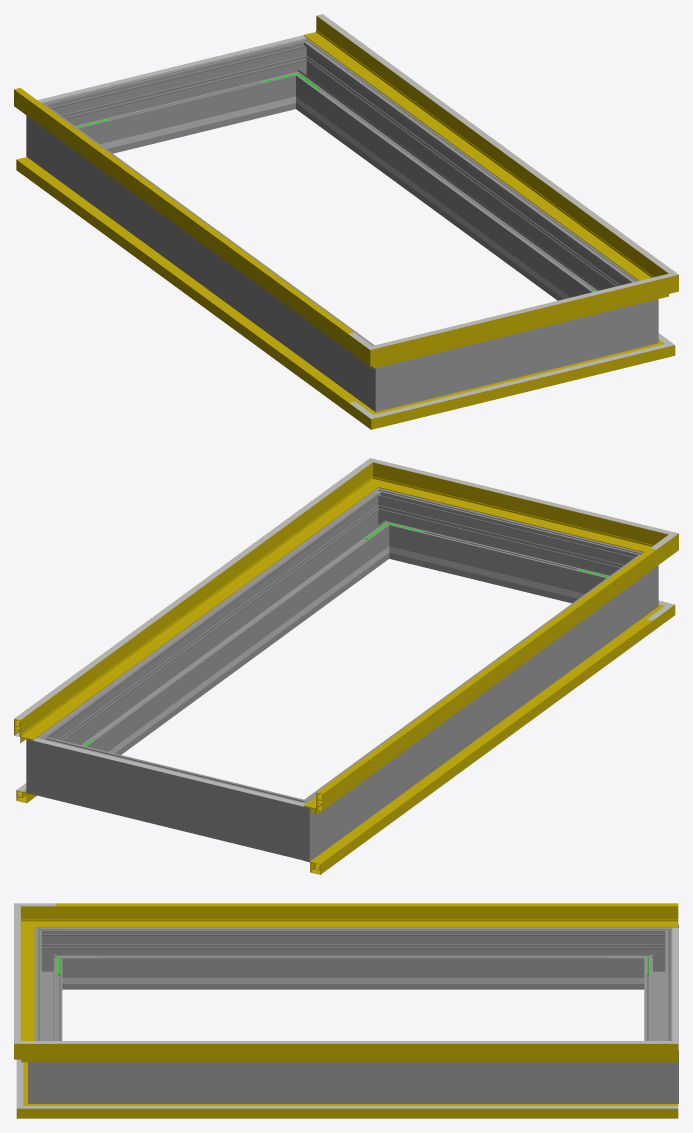
The picture shows the model from 3 angles, top to bottom: view 1: azimuth 30°, elevation 25°; view 2: azimuth 150°, elevation 25°; view 3: azimuth 270°, elevation 25°; orthographic projection. The views are drawn at different scales.
Visible parts, largest first — view 1: 3DGeom-298, 3DGeom-269, 3DGeom-277, 3DGeom-58, 3DGeom-299, 3DGeom-50, 3DGeom-6, 3DGeom-56, 3DGeom-11, 3DGeom-271, 3DGeom-71, 3DGeom-64 (+12 smaller); view 2: 3DGeom-298, 3DGeom-269, 3DGeom-299, 3DGeom-277, 3DGeom-58, 3DGeom-50, 3DGeom-56, 3DGeom-6, 3DGeom-279, 3DGeom-285, 3DGeom-64, 3DGeom-71 (+9 smaller); view 3: 3DGeom-269, 3DGeom-298, 3DGeom-50, 3DGeom-58, 3DGeom-16, 3DGeom-233, 3DGeom-71, 3DGeom-299, 3DGeom-277, 3DGeom-64, 3DGeom-18, 3DGeom-285 (+9 smaller).
Part boxes in pixels (bbox=[...]): 3DGeom-298: bbox=[299, 51, 629, 300]; 3DGeom-269: bbox=[48, 116, 365, 395]; 3DGeom-277: bbox=[68, 46, 289, 153]; 3DGeom-58: bbox=[303, 16, 653, 279]; 3DGeom-299: bbox=[414, 308, 619, 402]; 3DGeom-50: bbox=[14, 89, 349, 350]; 3DGeom-6: bbox=[16, 157, 358, 413]; 3DGeom-56: bbox=[405, 284, 640, 360]; 3DGeom-11: bbox=[404, 350, 636, 420]; 3DGeom-271: bbox=[353, 339, 414, 412]; 3DGeom-71: bbox=[14, 88, 353, 333]; 3DGeom-64: bbox=[317, 14, 655, 259]; 3DGeom-298: bbox=[55, 501, 385, 754]; 3DGeom-269: bbox=[319, 566, 636, 845]; 3DGeom-299: bbox=[395, 495, 616, 603]; 3DGeom-277: bbox=[65, 743, 277, 852]; 3DGeom-58: bbox=[14, 475, 367, 743]; 3DGeom-50: bbox=[303, 548, 656, 815]; 3DGeom-56: bbox=[397, 470, 636, 548]; 3DGeom-6: bbox=[304, 618, 652, 874]; 3DGeom-279: bbox=[271, 789, 331, 861]; 3DGeom-285: bbox=[26, 724, 71, 802]; 3DGeom-64: bbox=[14, 474, 353, 721]; 3DGeom-71: bbox=[316, 548, 655, 794]; 3DGeom-269: bbox=[69, 927, 637, 989]; 3DGeom-298: bbox=[69, 1062, 637, 1103]; 3DGeom-50: bbox=[55, 906, 678, 927]; 3DGeom-58: bbox=[55, 1043, 678, 1062]; 3DGeom-16: bbox=[58, 1104, 678, 1118]; 3DGeom-233: bbox=[102, 978, 604, 983]; 3DGeom-71: bbox=[55, 903, 678, 906]; 3DGeom-299: bbox=[34, 942, 62, 1040]; 3DGeom-277: bbox=[644, 942, 672, 1040]; 3DGeom-64: bbox=[55, 1041, 678, 1043]; 3DGeom-18: bbox=[58, 1106, 678, 1108]; 3DGeom-285: bbox=[637, 1036, 678, 1103].
Bounding box in the file's own units: 1.22 × 0.307 × 2.44.
